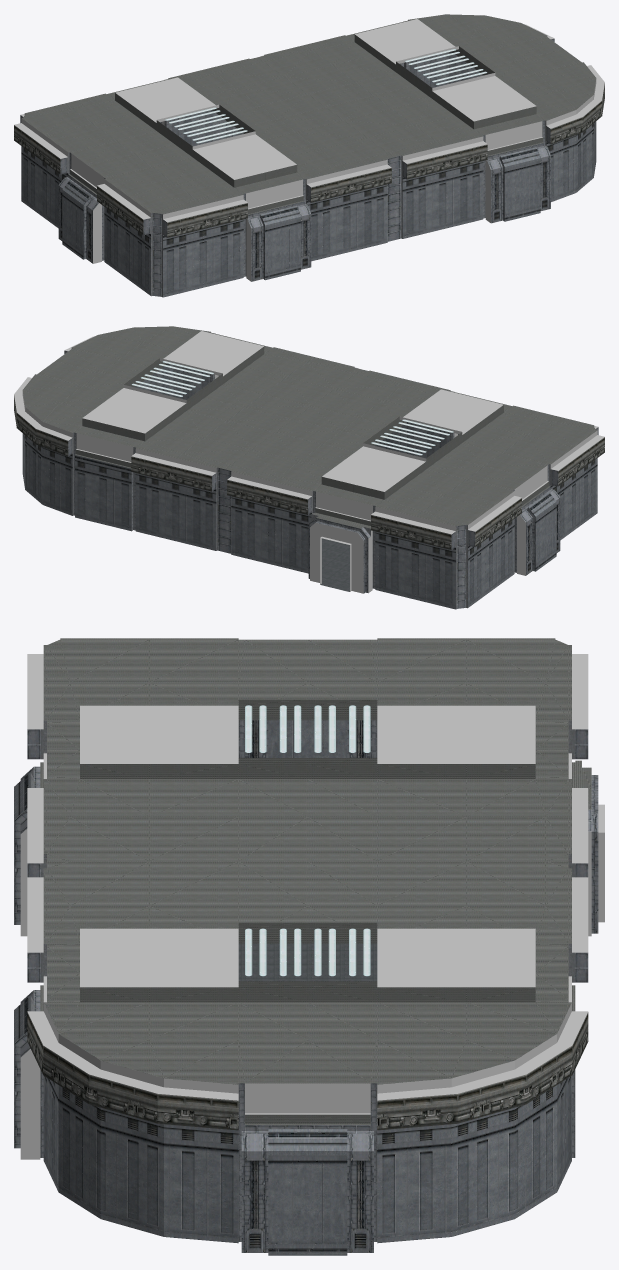
File: poi_all_impl_bunker_research_facility_s01_r9_office_mesh.fbx
3 views of the same model, one above another, from view 1: azimuth 30°, elevation 25°; view 2: azimuth 150°, elevation 25°; view 3: azimuth 270°, elevation 25° (orthographic). The views are drawn at different scales.
Parts seen in each view (by area): view 1: mesh_node; view 2: mesh_node; view 3: mesh_node.
Boxes of the visible parts, x1,y1,x2,y2 form: mesh_node: (14,14,604,297); mesh_node: (14,326,604,609); mesh_node: (14,638,604,1255).
Size of the model in its own units: 33.8 by 6 by 17.9.
